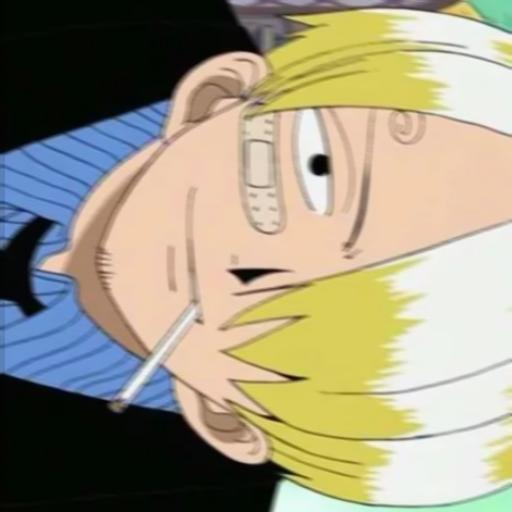sanji: (0, 7, 512, 512)
